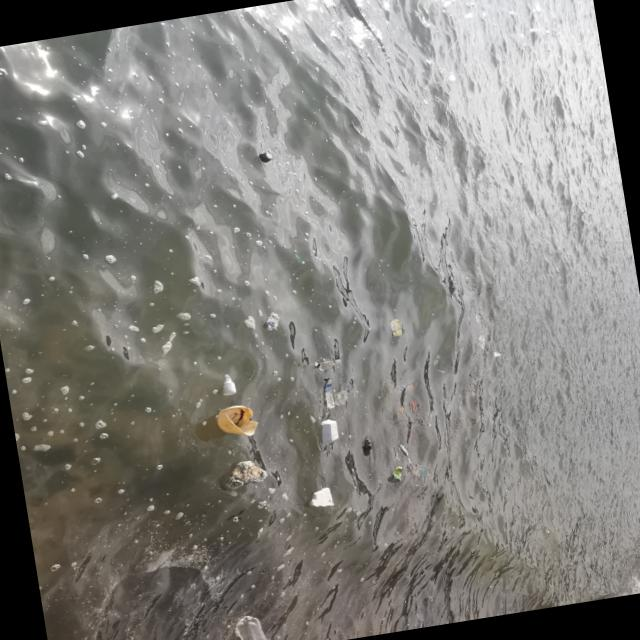can: (386, 466, 411, 487), (259, 153, 274, 165), (405, 384, 416, 395)
foam: (223, 459, 270, 495), (304, 487, 337, 513), (319, 418, 341, 448)
plastic bottle: (231, 611, 273, 640), (216, 376, 237, 399), (321, 380, 336, 411), (264, 314, 283, 334), (317, 359, 344, 373), (361, 439, 376, 459)
